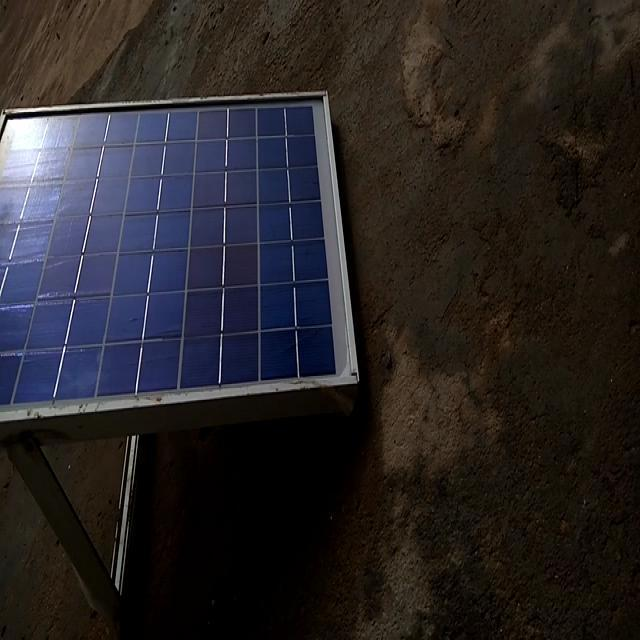Normal Solar Panel: (1, 92, 358, 443)
